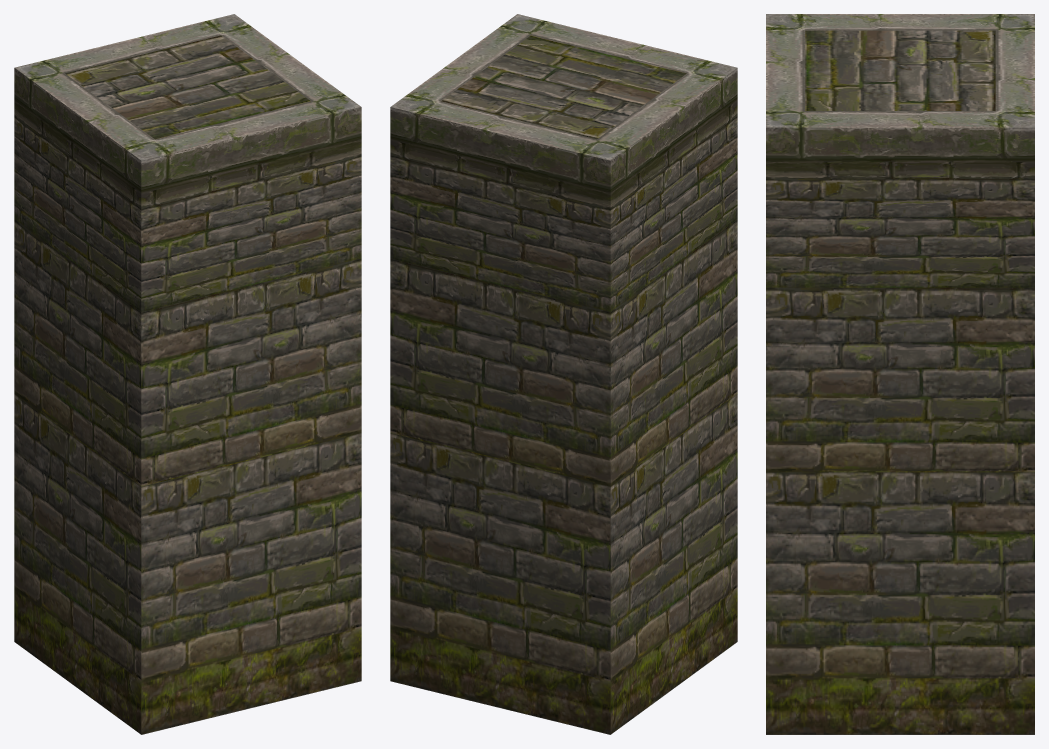
File: weidi_dw_20.fbx
The picture shows the model from 3 angles, left to right: view 1: azimuth 30°, elevation 25°; view 2: azimuth 150°, elevation 25°; view 3: azimuth 270°, elevation 25°; orthographic projection. The views are drawn at different scales.
Visible parts, largest first — view 1: weidi_dw_20; view 2: weidi_dw_20; view 3: weidi_dw_20.
Boxes of the visible parts, x1,y1,x2,y2 form: weidi_dw_20: [14, 14, 361, 734]; weidi_dw_20: [390, 14, 737, 734]; weidi_dw_20: [766, 14, 1034, 734].
Size of what is drawn, in the model's own units: 800 by 1994 by 800.
